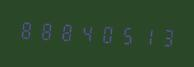eight: (17, 15, 36, 43), (37, 16, 56, 44), (57, 17, 76, 45)
five: (117, 21, 136, 49)
four: (77, 18, 96, 46)
one: (137, 22, 156, 50)
three: (157, 23, 176, 51)
zero: (97, 20, 116, 47)
